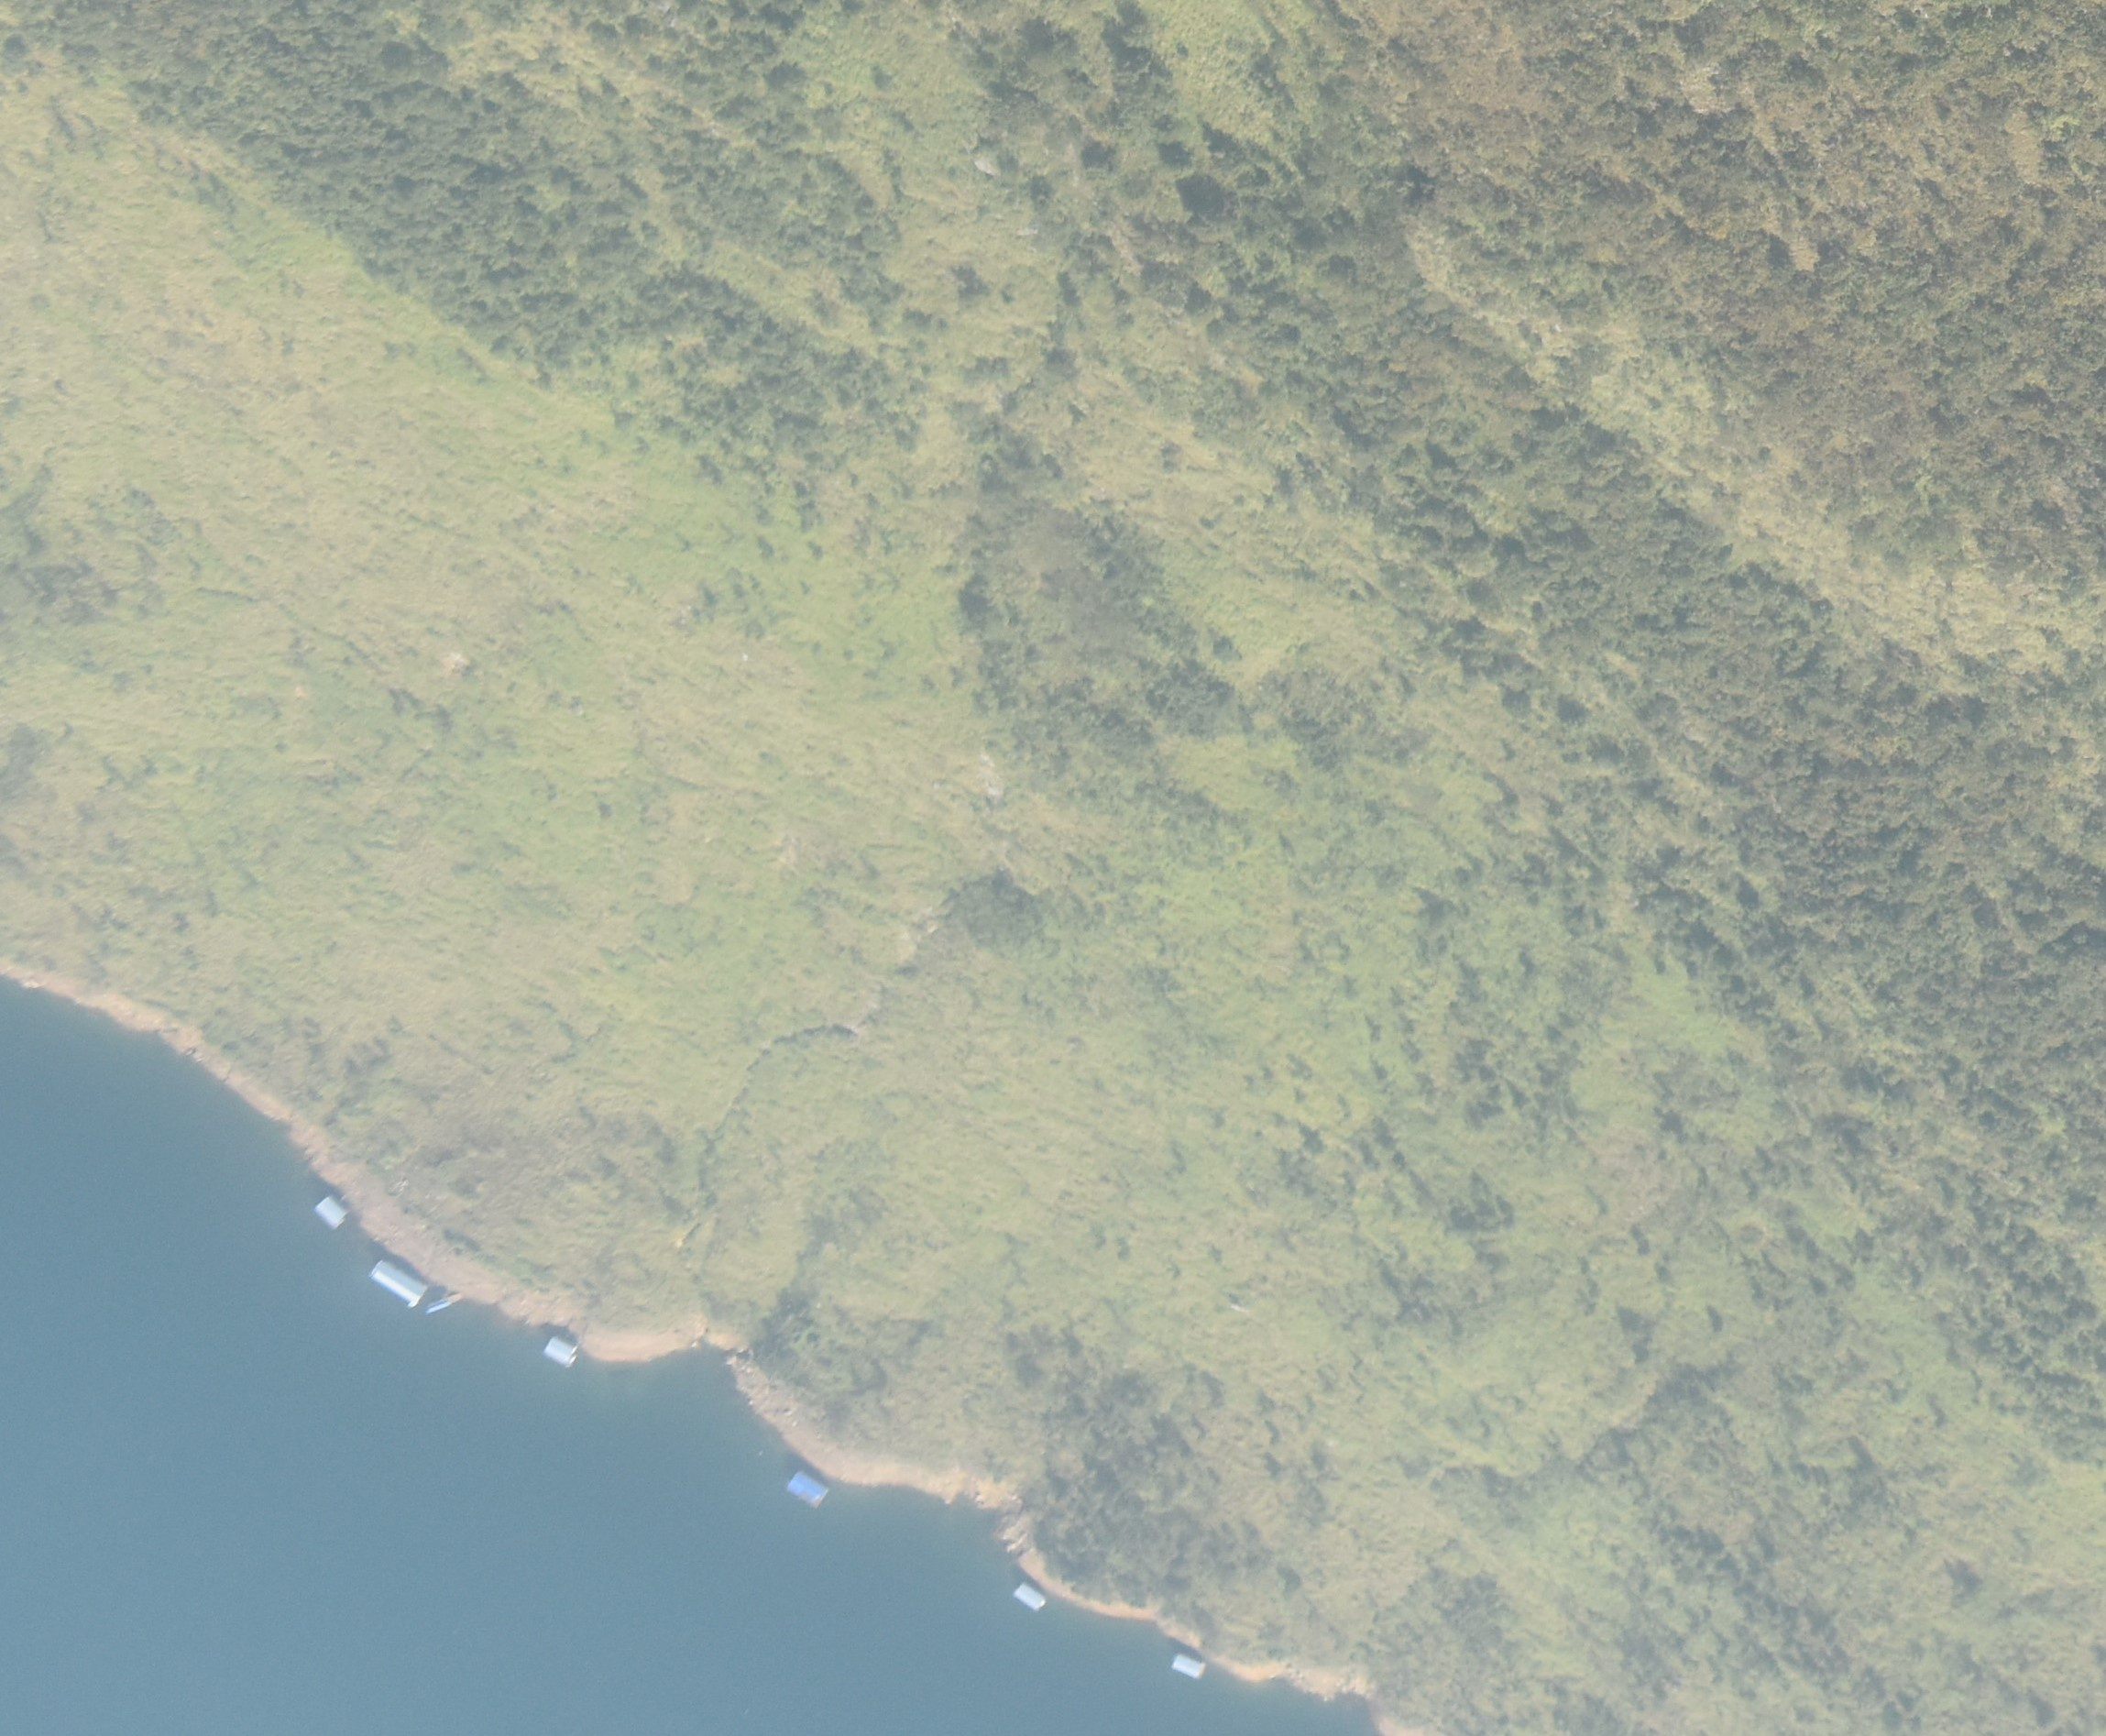prefabricated-house: (371, 1261, 426, 1307), (786, 1470, 828, 1508), (545, 1334, 581, 1372), (1013, 1577, 1048, 1610), (1171, 1648, 1209, 1679), (314, 1198, 348, 1228)
ship: (422, 1291, 466, 1316)
